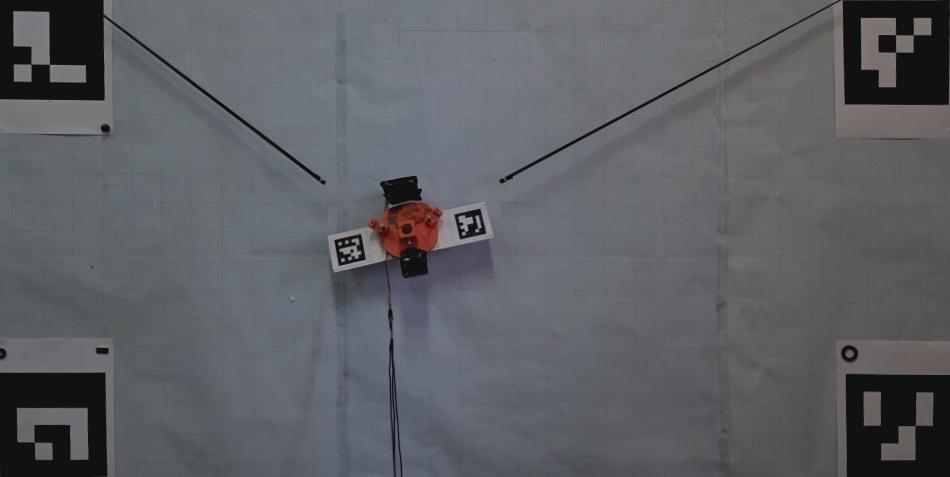robot: (368, 176, 443, 278)
